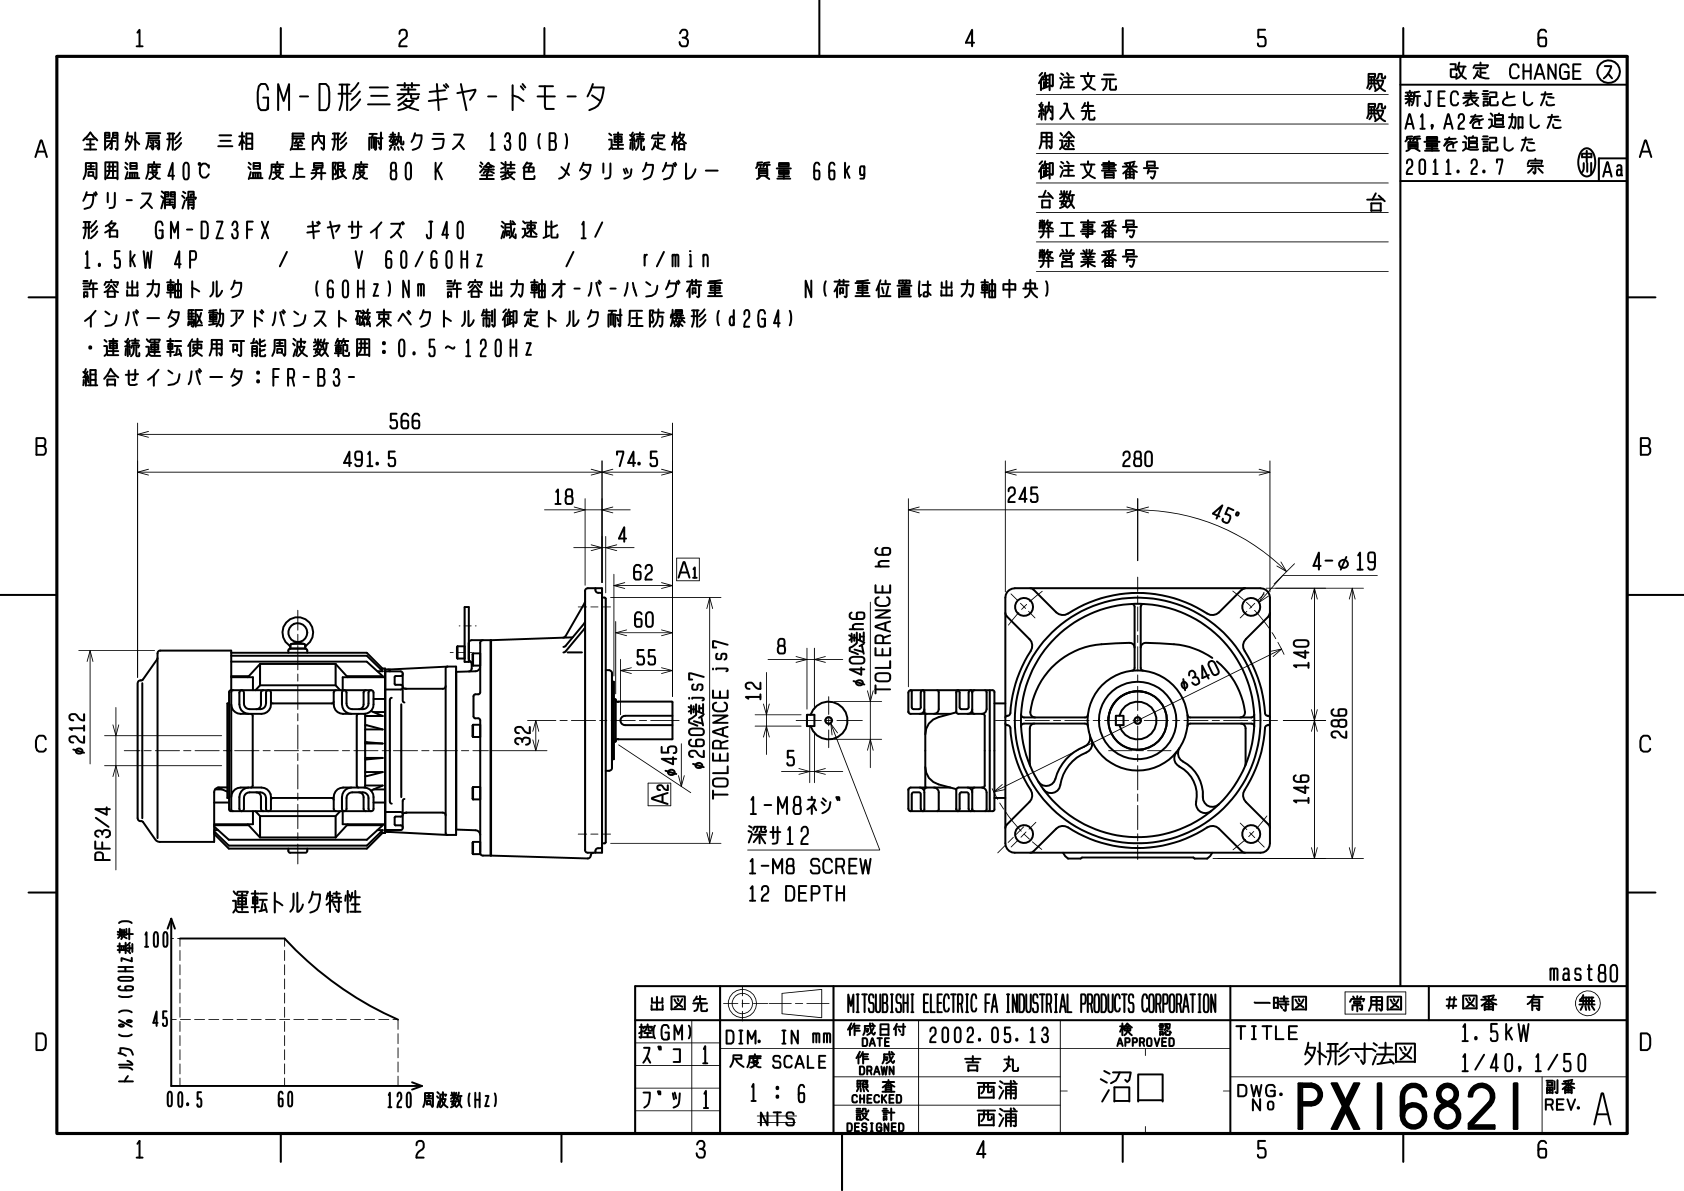GM_D_制御屋内_三相_フランジ: (70, 402, 1393, 956)
